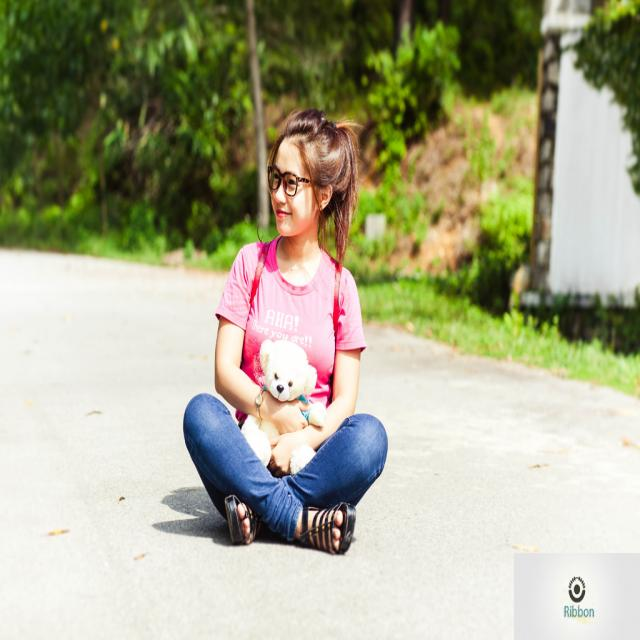Glasses: (262, 170, 334, 210)
